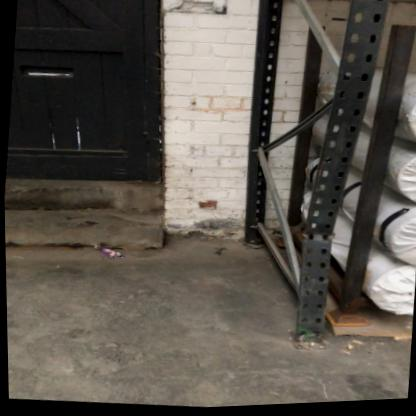vertical_damage: (290, 179, 356, 282)
